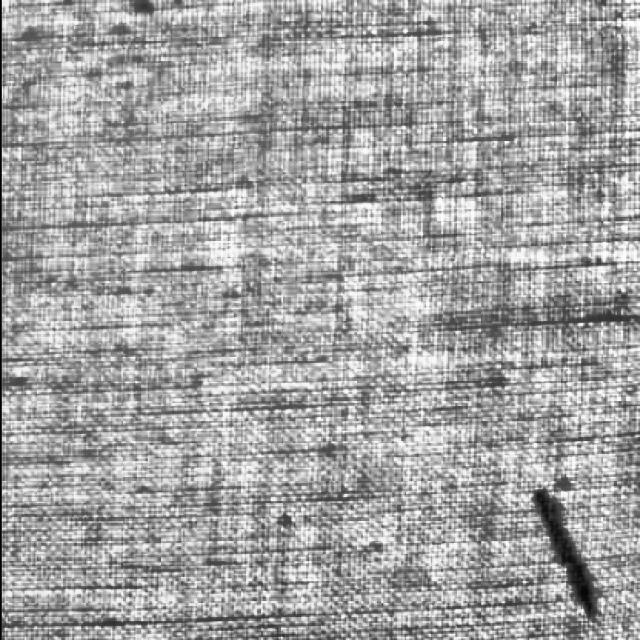oil_spot: (516, 476, 614, 626)
